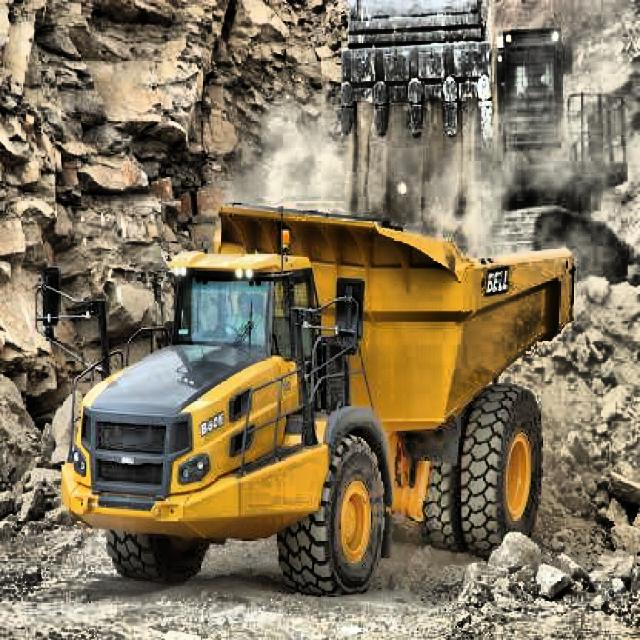dump_truck: (36, 189, 586, 602)
